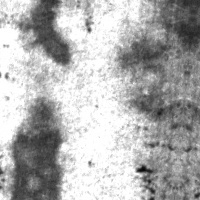patches: (7, 93, 69, 187), (13, 0, 77, 66), (114, 32, 172, 80), (128, 82, 167, 124), (153, 12, 192, 48)
